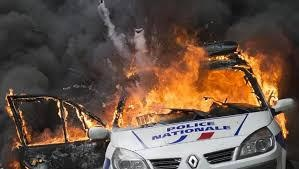fire: (274, 110, 289, 137)
